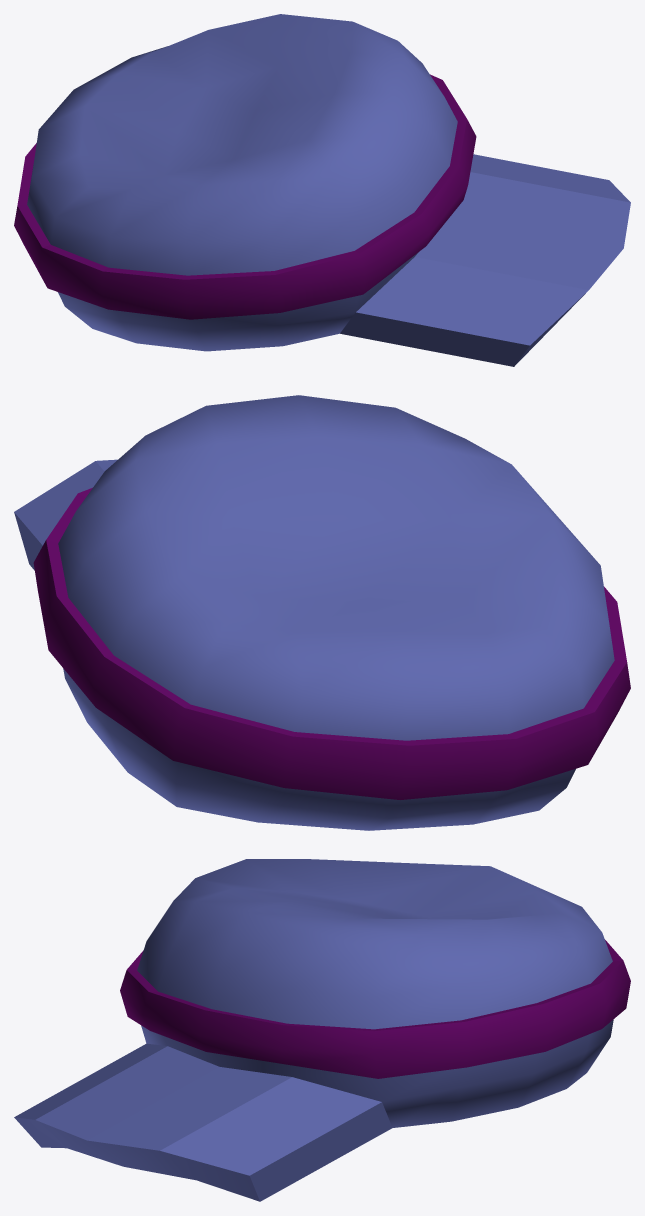
The model's file is DeliveryHat.fbx.
3 views of the same model, one above another, from view 1: azimuth 30°, elevation 25°; view 2: azimuth 150°, elevation 25°; view 3: azimuth 270°, elevation 25° (orthographic). The views are drawn at different scales.
Parts seen in each view (by area): view 1: DeliveryHat; view 2: DeliveryHat; view 3: DeliveryHat.
Boxes of the visible parts, left/top/right/bottom form: DeliveryHat: left=14, top=14, right=630, bottom=366; DeliveryHat: left=14, top=395, right=630, bottom=830; DeliveryHat: left=14, top=859, right=630, bottom=1201.
Bounding box in the file's own units: 181 × 75.39 × 178.
